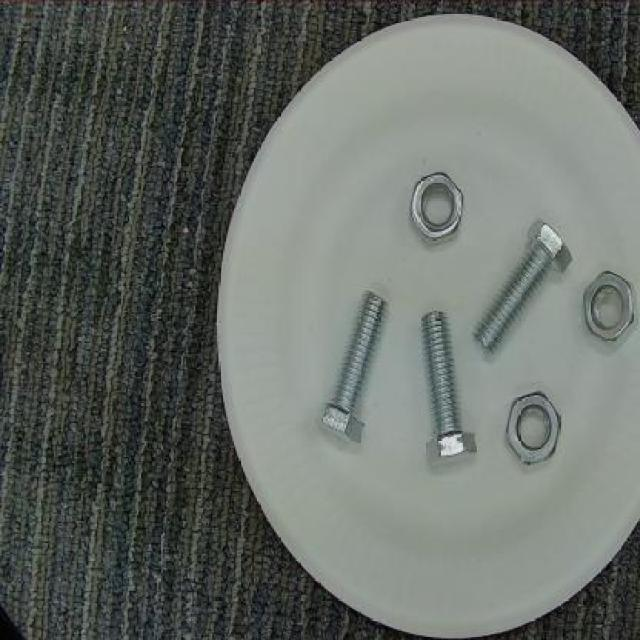Bolt: (471, 216, 574, 362), (316, 285, 390, 452), (416, 308, 480, 470)
Nut: (504, 392, 568, 471), (404, 165, 466, 243), (582, 272, 638, 350)
